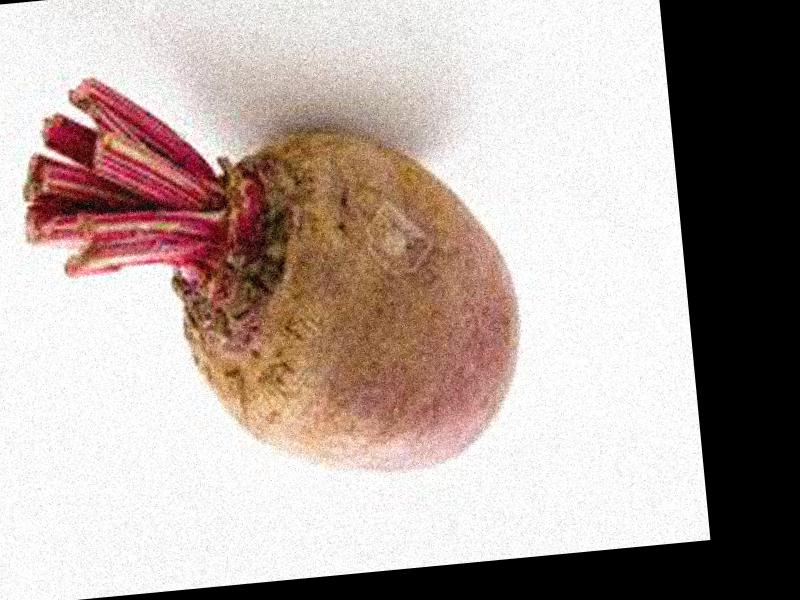Beet: (12, 36, 534, 506)
